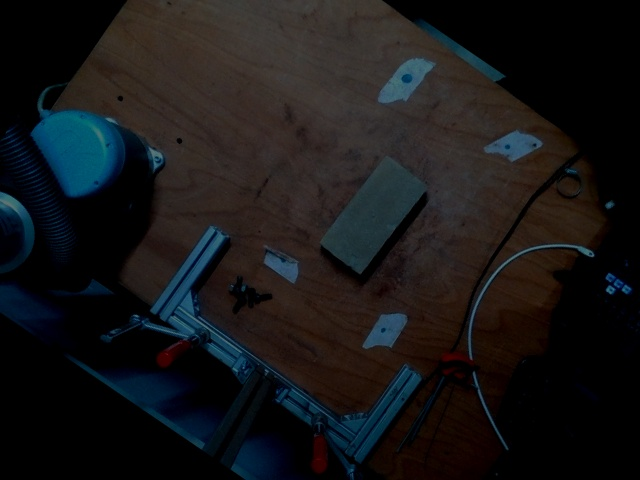brick: (321, 158, 425, 272)
